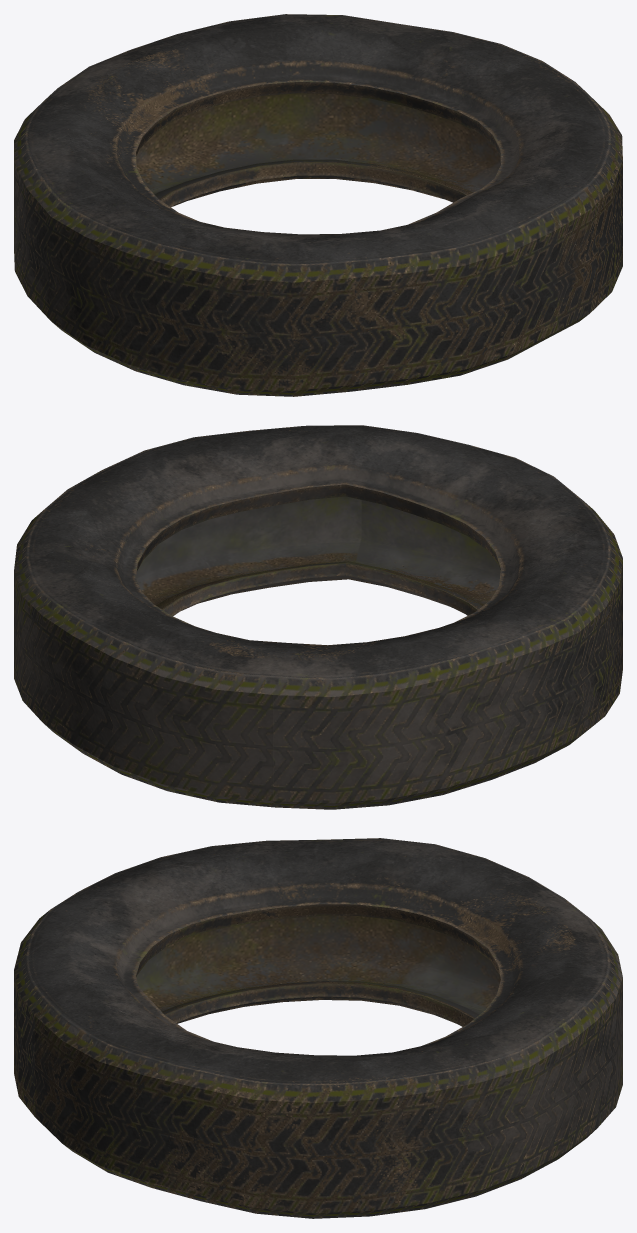
File: SM_Tire_Single.fbx
The picture shows the model from 3 angles, top to bottom: view 1: azimuth 30°, elevation 25°; view 2: azimuth 150°, elevation 25°; view 3: azimuth 270°, elevation 25°; orthographic projection.
Visible parts, largest first — view 1: SM_Tire_Single_LOD0; view 2: SM_Tire_Single_LOD0; view 3: SM_Tire_Single_LOD0.
Part boxes in pixels (x1=…): SM_Tire_Single_LOD0: x1=14, y1=14, x2=622, y2=396; SM_Tire_Single_LOD0: x1=14, y1=425, x2=622, y2=809; SM_Tire_Single_LOD0: x1=14, y1=838, x2=622, y2=1218.
Bounding box in the file's own units: 79.99 × 79.99 × 21.95.
